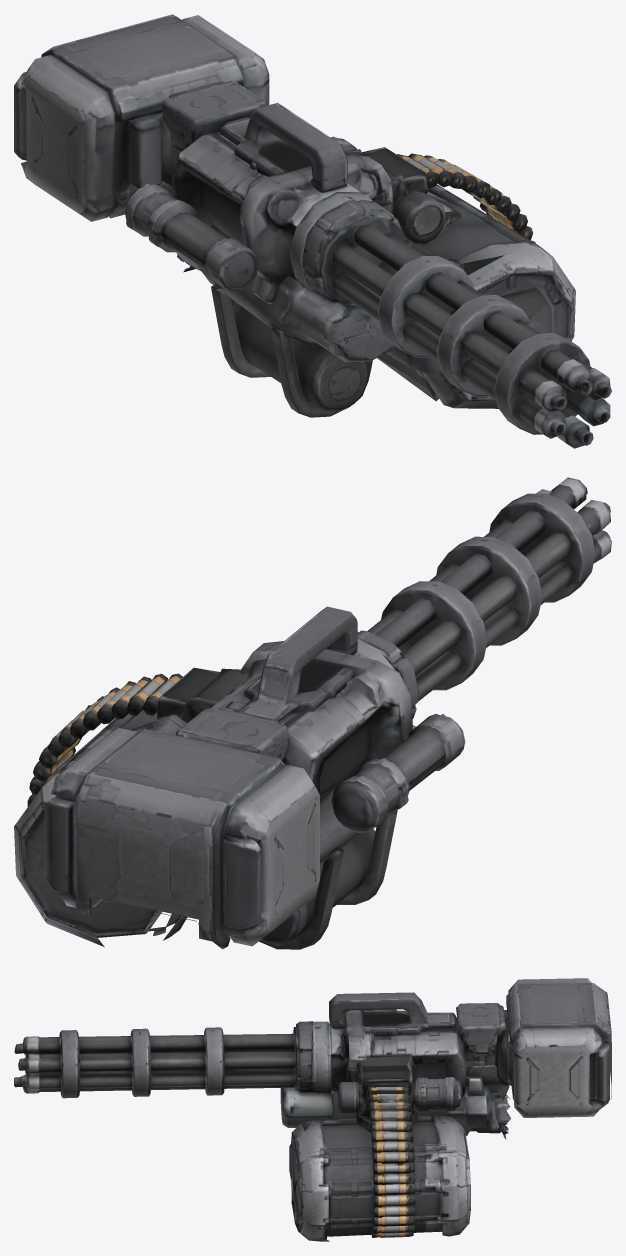
The model's file is minigun.glb.
3 renders of one model, top to bottom at view 1: azimuth 30°, elevation 25°; view 2: azimuth 150°, elevation 25°; view 3: azimuth 270°, elevation 25°, orthographic. The views are drawn at different scales.
Parts seen in each view (by area): view 1: tripo_1938393a_6e5a_4437_b6e9_25f2496c34a9; view 2: tripo_1938393a_6e5a_4437_b6e9_25f2496c34a9; view 3: tripo_1938393a_6e5a_4437_b6e9_25f2496c34a9.
Boxes of the visible parts, left/top/right/bottom form: tripo_1938393a_6e5a_4437_b6e9_25f2496c34a9: left=14, top=14, right=611, bottom=448; tripo_1938393a_6e5a_4437_b6e9_25f2496c34a9: left=14, top=477, right=611, bottom=949; tripo_1938393a_6e5a_4437_b6e9_25f2496c34a9: left=14, top=978, right=611, bottom=1241.
Bounding box in the file's own units: 2.77 × 2.07 × 6.
Materials: 1 (1 with a texture image).
